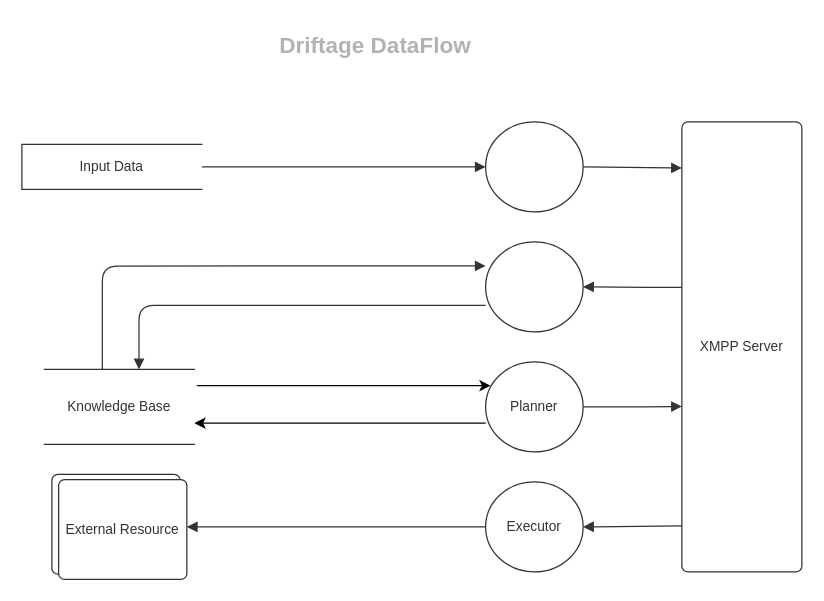
Image size: 824x601. Some labels were removed from this diagram. Each missing label, with the centre of its shape:
Analyser: the point at 533,286
Monitor: the point at 533,166
